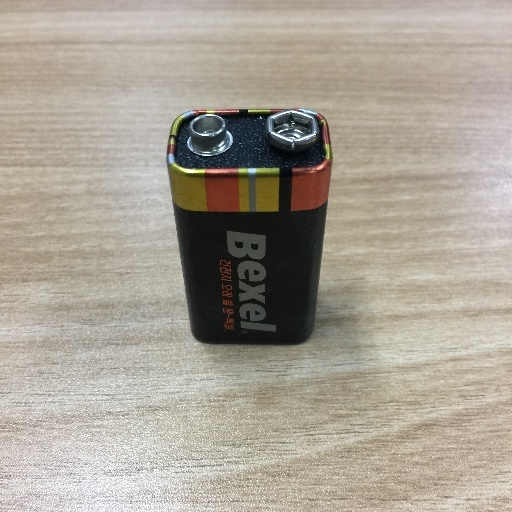Battery_3: (158, 93, 349, 356)
